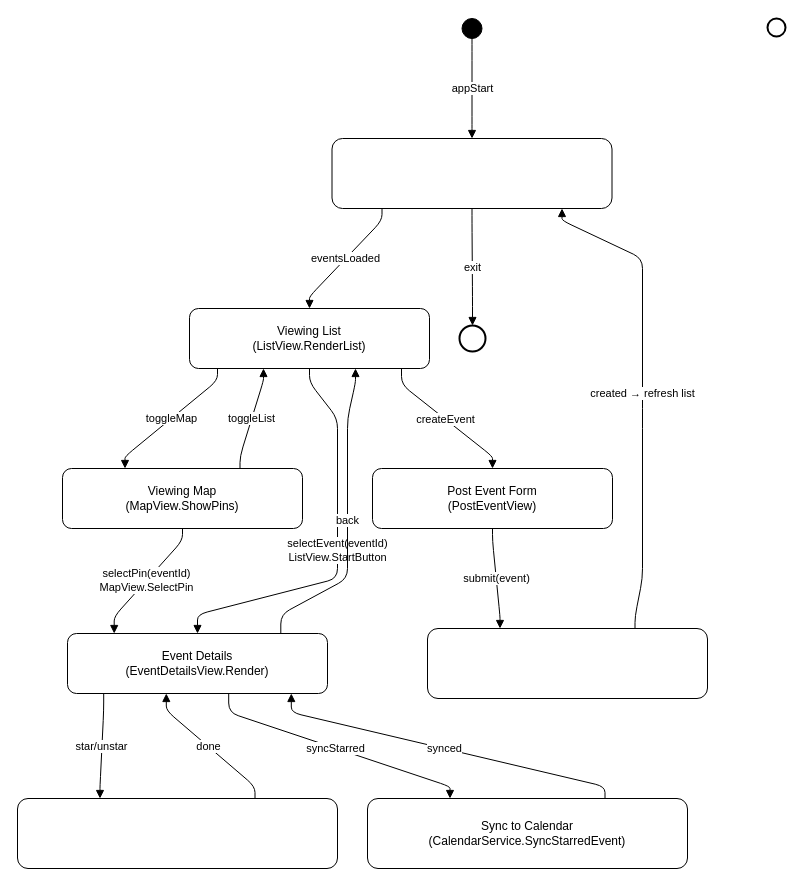
Image size: 804x886. Some labels were removed from this diagram. The centre of each missing label's shape, as x and y in pixels:
"Loading Events (EventService.GetMonthlyEvents)" goes at (x=471, y=173).
"Submitting Event (PostEventView.Submit → EventService.CreateEvent)" goes at (x=567, y=663).
"Toggle Favorite (FavoriteService.StarEvent / UnstarEvent)" goes at (x=177, y=833).
